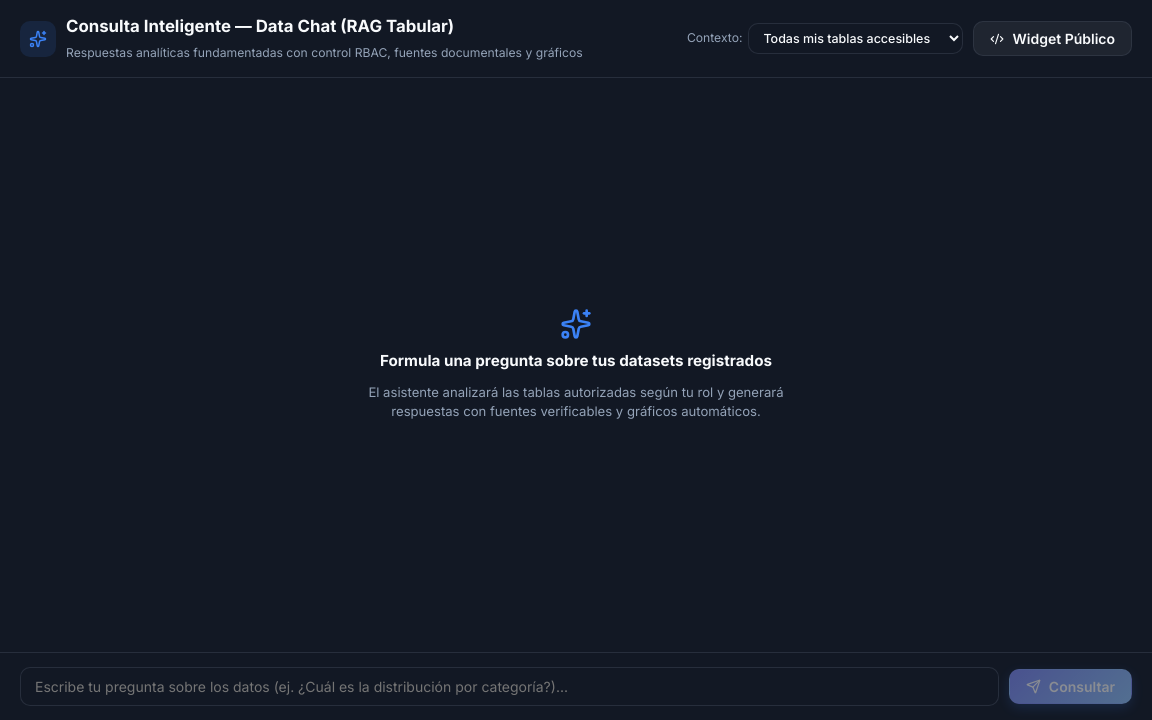
Scenario: ChatStudioView Component — Module 16 (RAG Tabular, Sources, Charts & Public Widget) › displays clear warning banner when foundInSystem is false and supports Public Widget Sandbox
This screenshot has width=1152, height=720.
Replace the text in the field named "Pregunta analítica" with "¿Exportaciones a Marte?": (509, 686) [20,667,999,706]
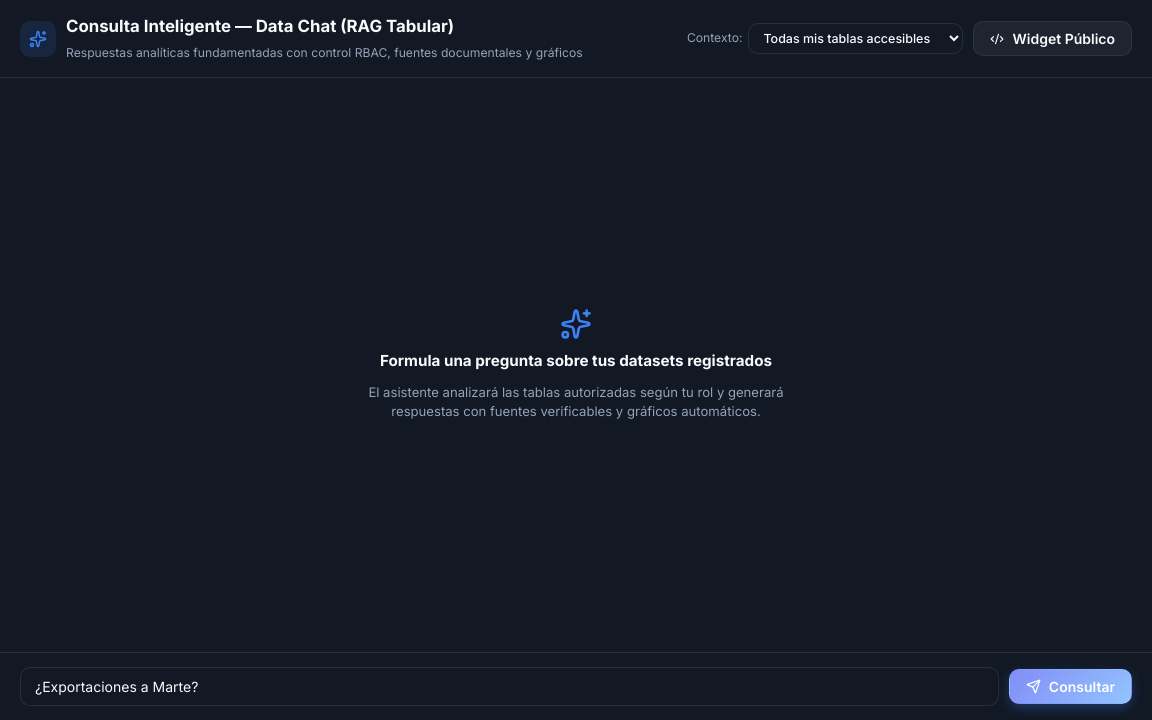
Click the button "Consultar": (1070, 686) [1009,669,1132,704]
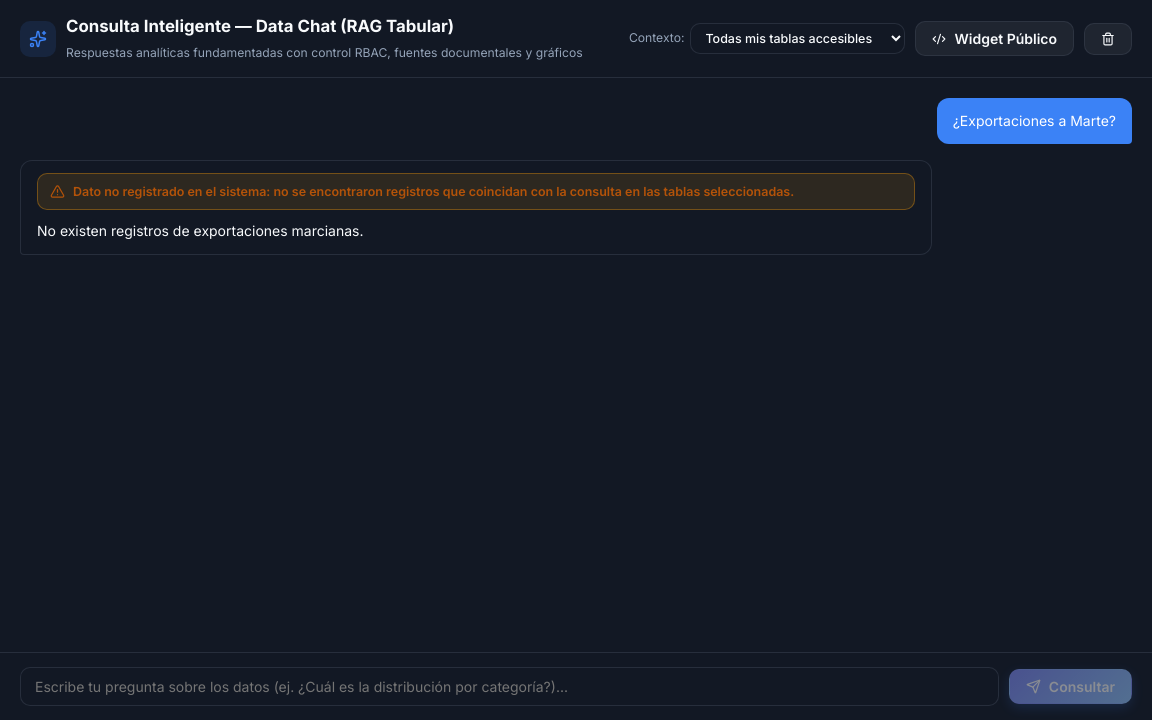
Result: the text "Dato no registrado en el sistema" is shown at [73,184,794,199]
Note: Open Public Widget Modal
Click the button "Widget Público": (995, 39) [916,21,1074,56]
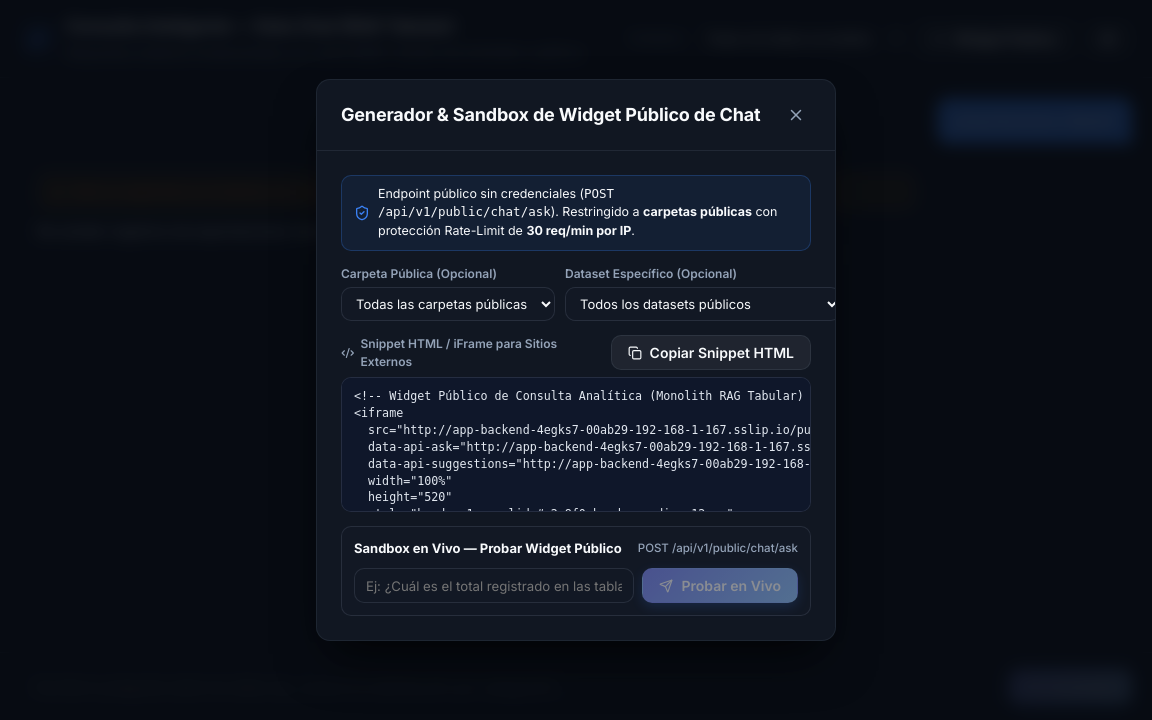
Result: the heading "Generador & Sandbox de Widget Público de Chat" is shown at [341,101,760,128]
In the field named "Pregunta de prueba para el widget público": (494, 586) [354,568,634,603], type "¿Total en tablas públicas?"
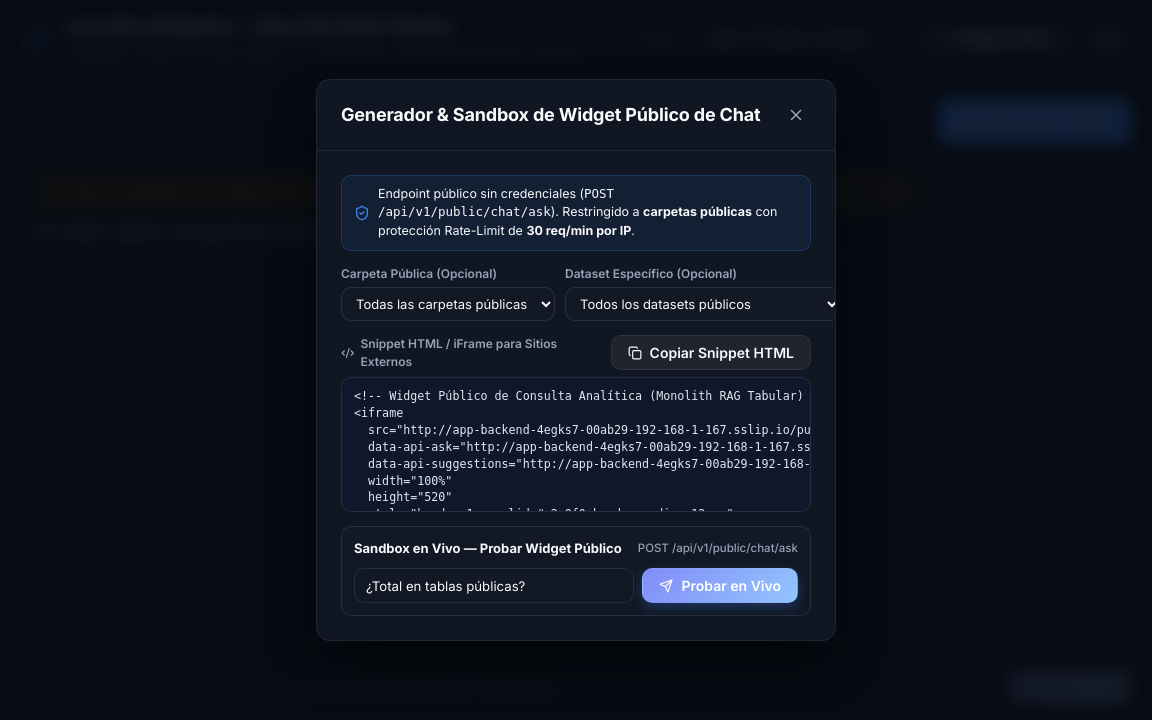
Click the button "Probar en Vivo": (720, 586) [642,568,798,603]
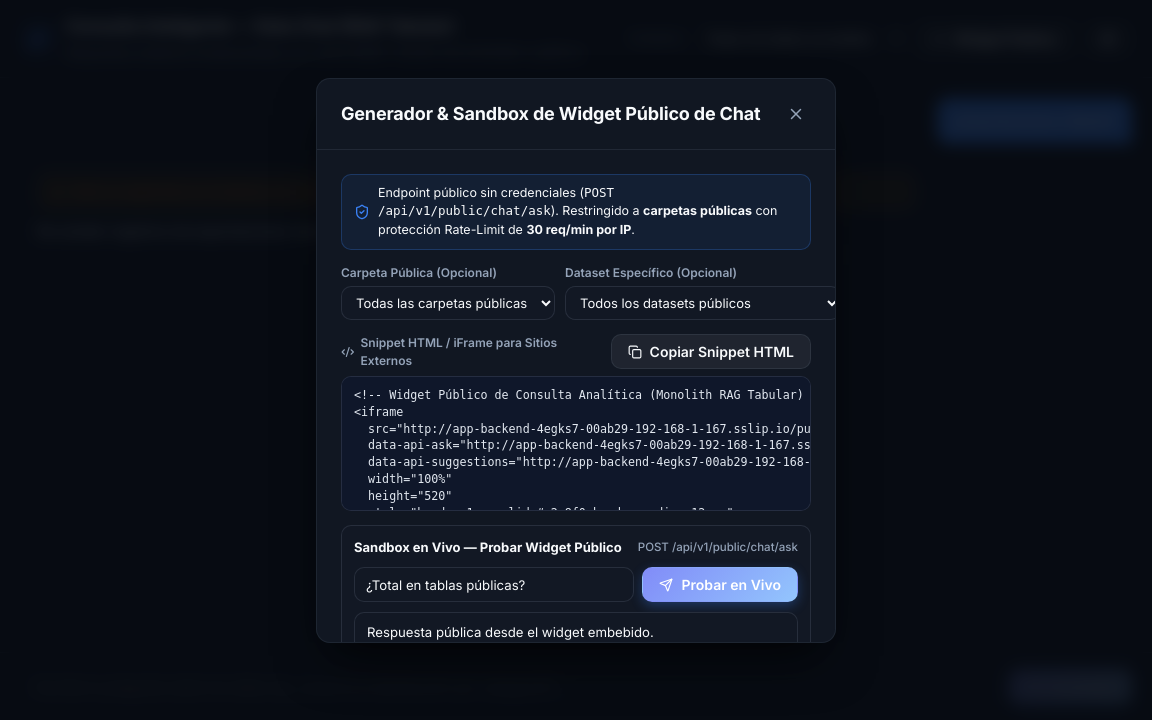
Result: the text "Respuesta pública desde el widget embebido." is shown at [367,624,654,640]
